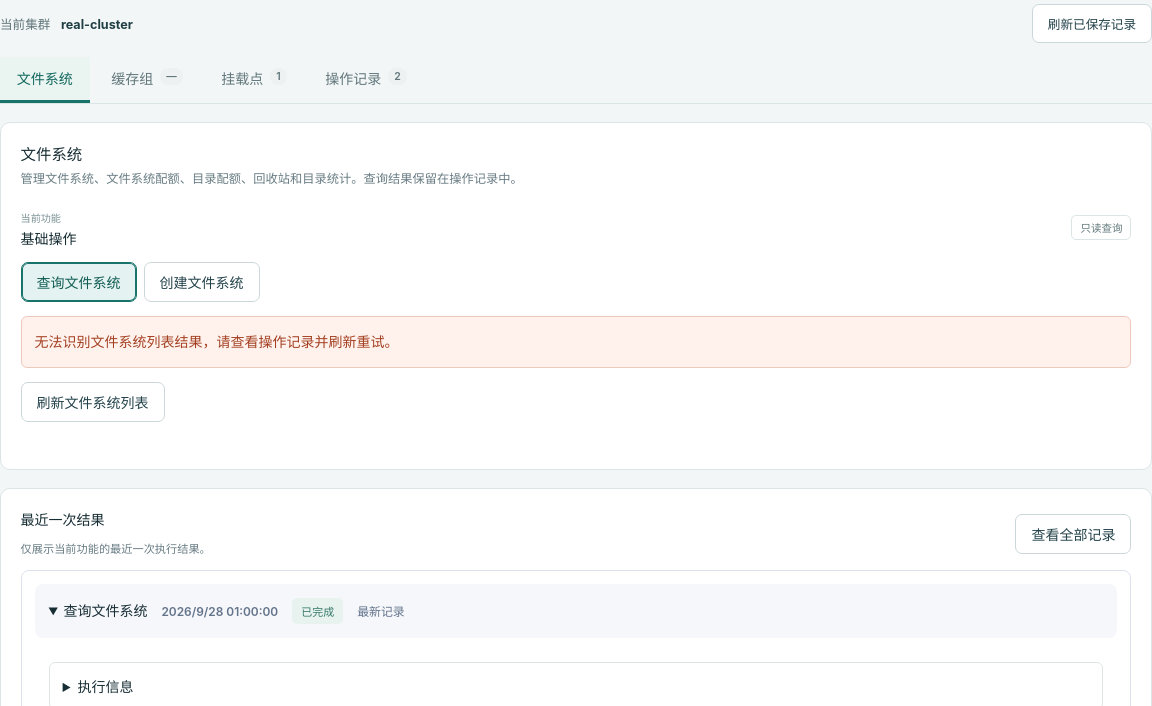
Scenario: history filters records without querying or rerunning remote commands
The image size is (1152, 706).
Click the button "操作记录 2" at (366, 80), box [308,56,424,103]
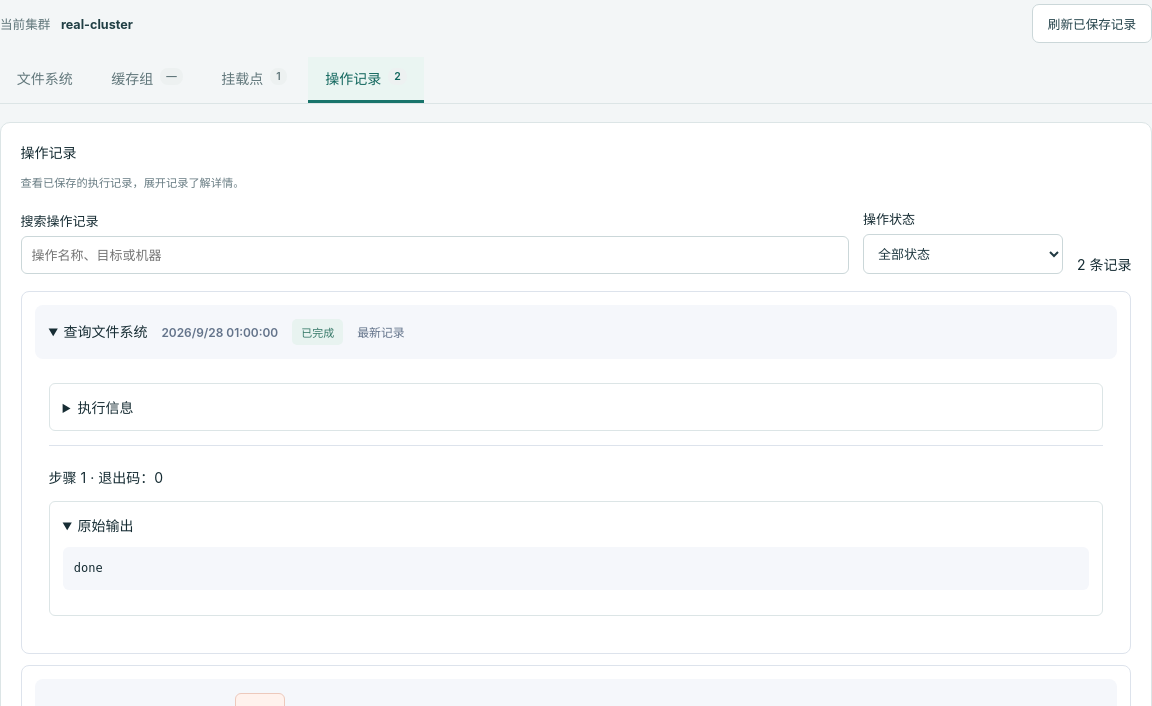
Select "失败" in the dropdown labelled "操作状态" at (963, 254), box [863,234,1063,274]
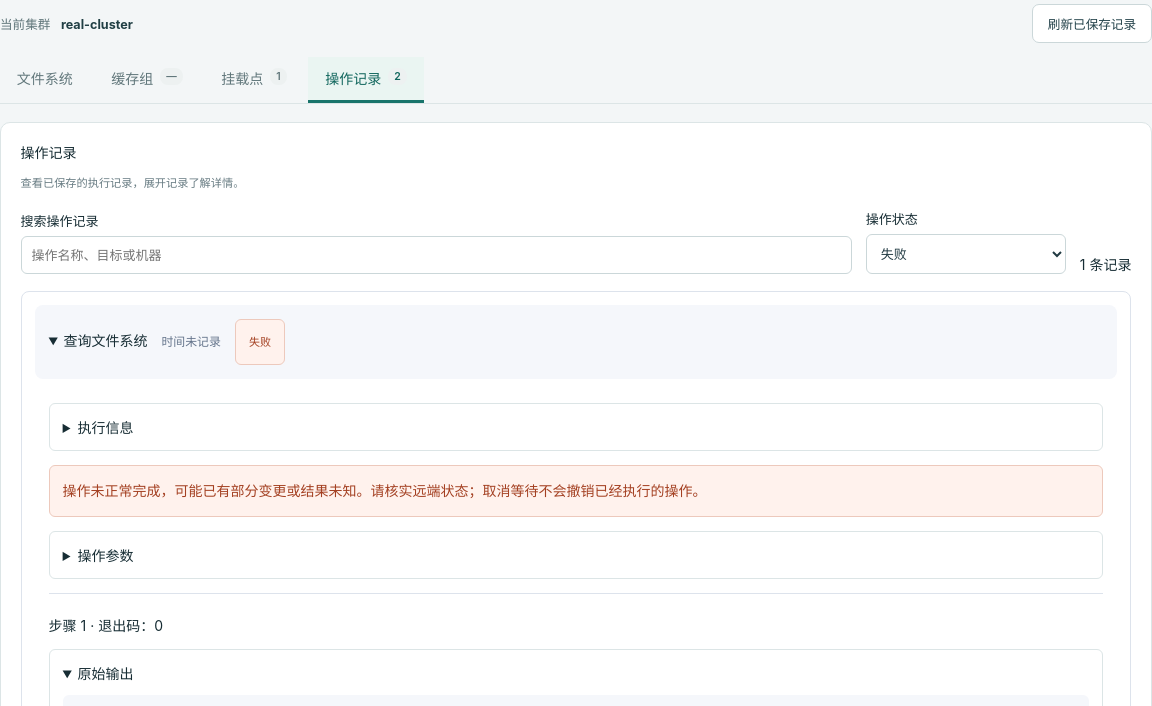
Type "absent" into the field labelled "搜索操作记录" at (436, 255), box [21,236,852,274]
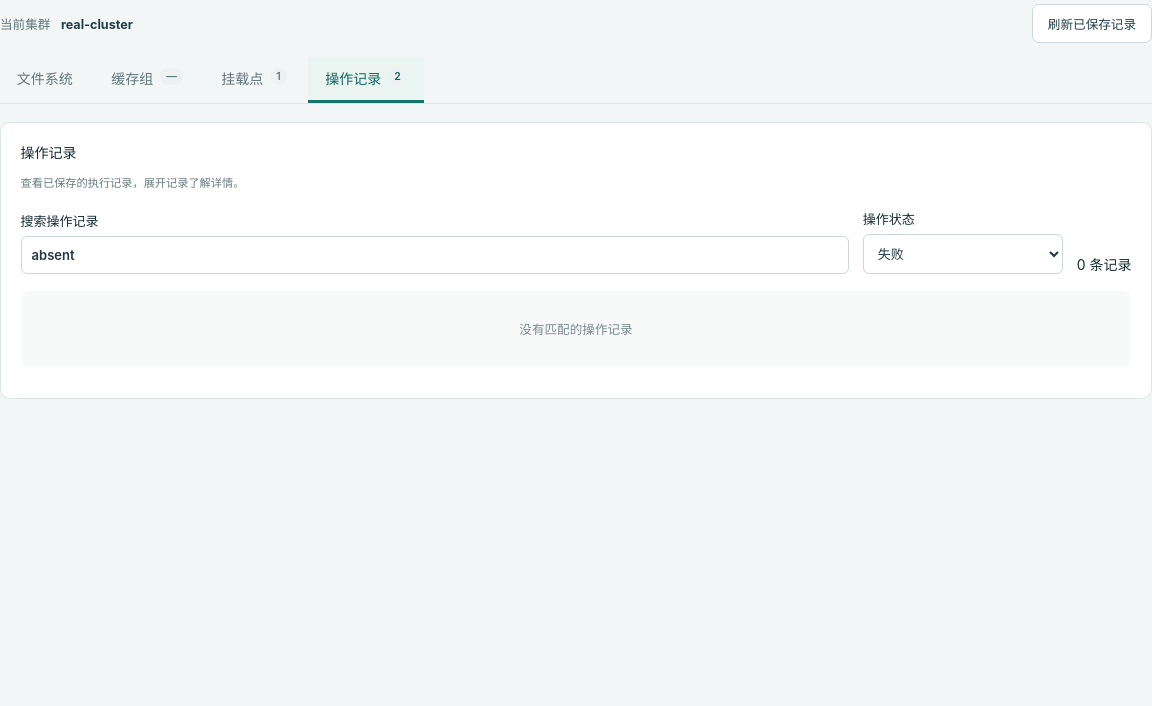
expect the text "没有匹配的操作记录" is shown: met, box [21,291,1131,366]
